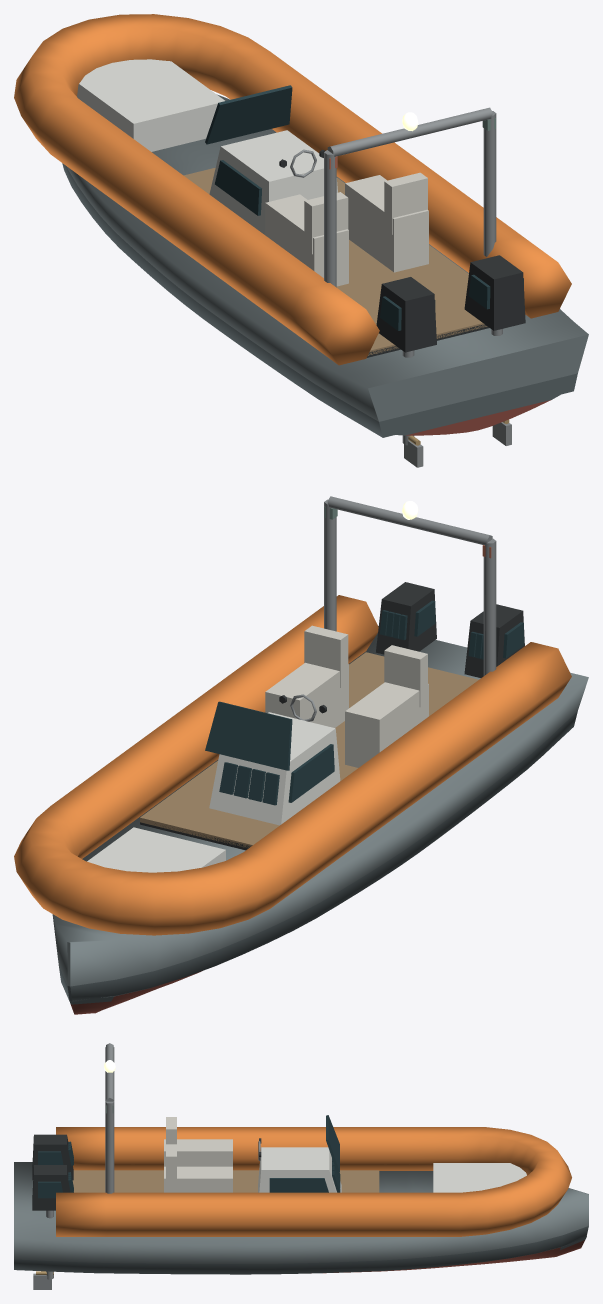
The model's file is rib-low.glb.
The picture shows the model from 3 angles, top to bottom: view 1: azimuth 30°, elevation 25°; view 2: azimuth 150°, elevation 25°; view 3: azimuth 270°, elevation 25°; orthographic projection. The views are drawn at different scales.
Parts seen in each view (by area): view 1: orange, hull, white, canvas, stripe, black, metal, teak, window, bottom; view 2: orange, hull, canvas, window, white, teak, stripe, metal, black, bottom; view 3: orange, hull, stripe, white, canvas, teak, window, black, metal, bottom.
Part boxes in pixels (x1,y1,x2,y2): orange: [14, 14, 571, 365]; hull: [67, 94, 588, 421]; white: [77, 59, 337, 234]; canvas: [265, 172, 428, 286]; stripe: [62, 163, 577, 437]; black: [279, 149, 525, 357]; metal: [290, 107, 511, 467]; teak: [183, 167, 487, 355]; window: [205, 85, 524, 330]; bottom: [406, 400, 550, 435]; orange: [14, 595, 571, 935]; hull: [52, 626, 588, 986]; canvas: [265, 625, 428, 767]; window: [205, 600, 524, 805]; white: [87, 712, 340, 872]; teak: [140, 652, 478, 848]; stripe: [59, 711, 577, 1004]; metal: [290, 496, 496, 721]; black: [140, 582, 524, 850]; bottom: [70, 971, 201, 1014]; orange: [56, 1127, 571, 1236]; hull: [14, 1162, 588, 1263]; stripe: [14, 1226, 588, 1274]; white: [258, 1147, 526, 1192]; canvas: [164, 1117, 232, 1192]; teak: [72, 1170, 379, 1192]; window: [38, 1115, 340, 1198]; black: [32, 1134, 261, 1210]; metal: [33, 1043, 260, 1289]; bottom: [311, 1240, 584, 1273].
Bounding box in the file's own units: 3.4 × 3.93 × 9.6.
